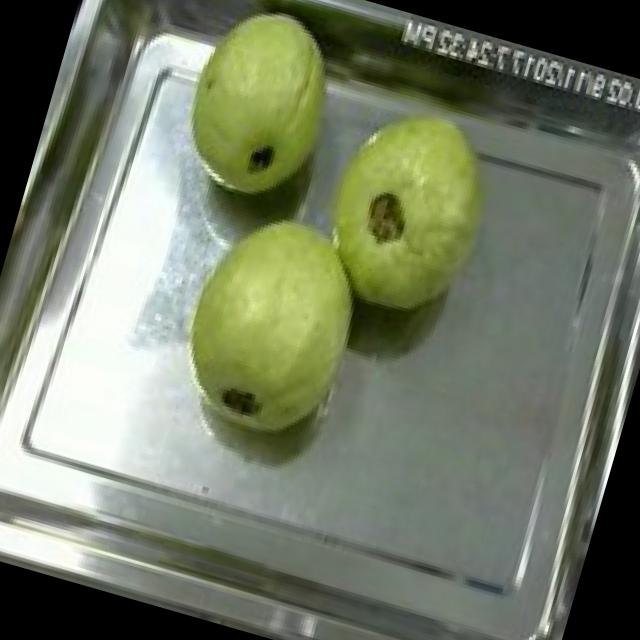Fruit: (151, 180, 392, 462), (288, 78, 524, 342), (152, 0, 376, 229)
